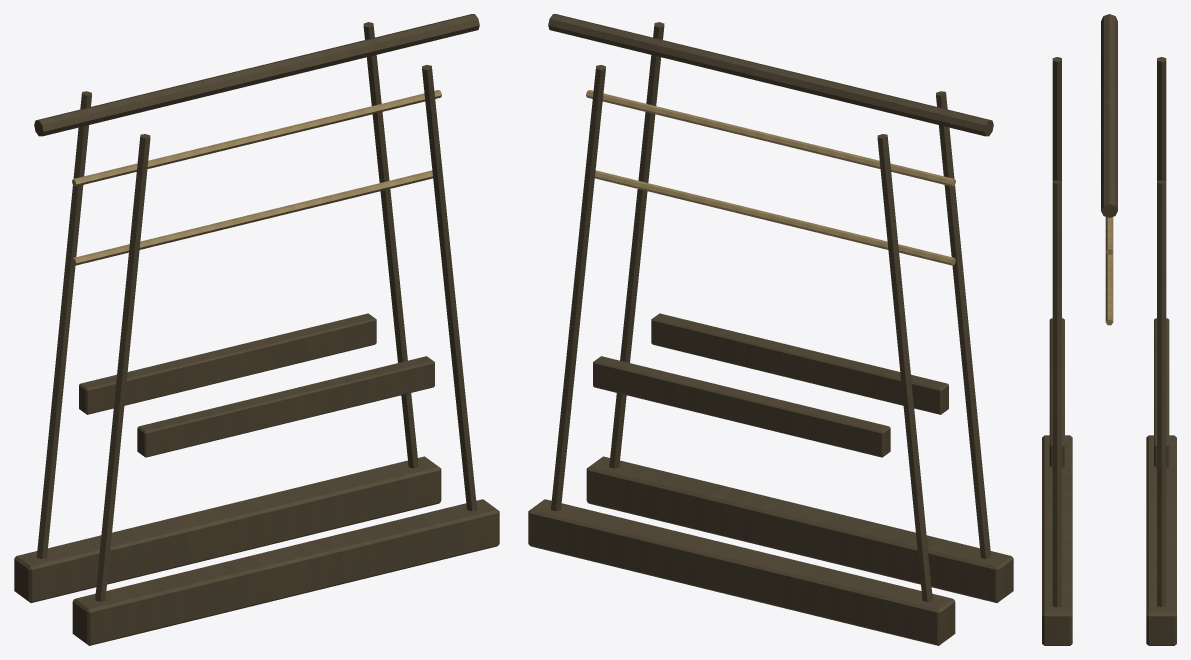
Rendered from WarrensC_WVC056_DryingRack_Mars_SM.fbx.
3 views of the same model, side by side, from view 1: azimuth 30°, elevation 25°; view 2: azimuth 150°, elevation 25°; view 3: azimuth 270°, elevation 25° (orthographic). The views are drawn at different scales.
Parts seen in each view (by area): view 1: WarrensC_WVC056_DryingRack_Mars_SM.001; view 2: WarrensC_WVC056_DryingRack_Mars_SM.001; view 3: WarrensC_WVC056_DryingRack_Mars_SM.001.
Boxes of the visible parts, x1=… form: WarrensC_WVC056_DryingRack_Mars_SM.001: x1=14, y1=14, x2=499, y2=645; WarrensC_WVC056_DryingRack_Mars_SM.001: x1=528, y1=14, x2=1013, y2=645; WarrensC_WVC056_DryingRack_Mars_SM.001: x1=1042, y1=14, x2=1176, y2=645.
Bounding box in the file's own units: 200 × 60 × 220.
